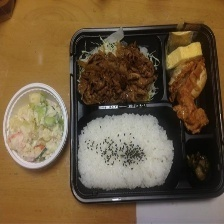sabzi: (72, 40, 159, 106)
